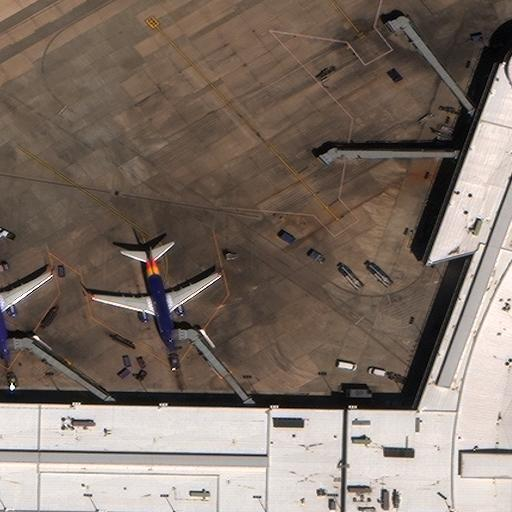Medium Civil Transport: (92, 244, 222, 353), (0, 248, 54, 362)
